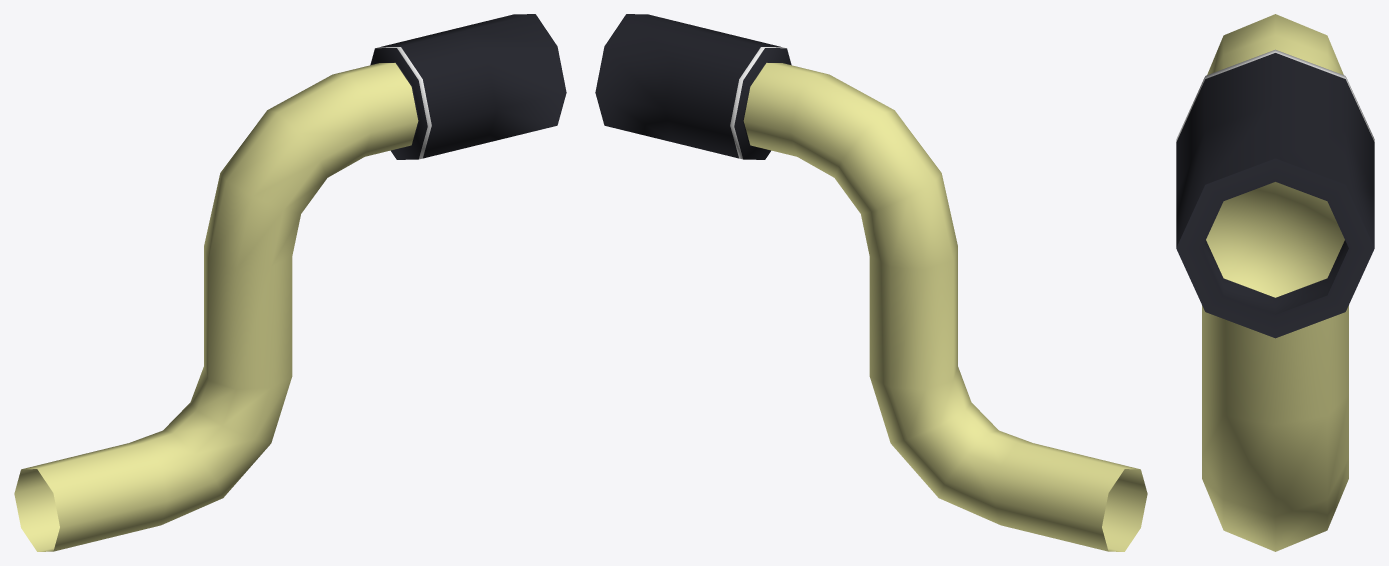
The model's file is CaixaMN.fbx.
3 views of the same model, side by side, from view 1: azimuth 30°, elevation 25°; view 2: azimuth 150°, elevation 25°; view 3: azimuth 270°, elevation 25° (orthographic). The views are drawn at different scales.
Parts seen in each view (by area): view 1: Manivela; view 2: Manivela; view 3: Manivela.
Part boxes in pixels (left/top/right/bottom): Manivela: left=14, top=14, right=566, bottom=551; Manivela: left=595, top=14, right=1147, bottom=551; Manivela: left=1176, top=14, right=1374, bottom=551.
Bounding box in the file's own units: 9.09 × 7.26 × 1.95.
